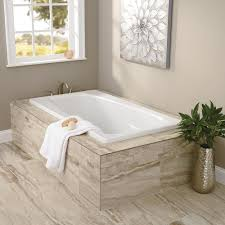bathub: (15, 88, 194, 193)
